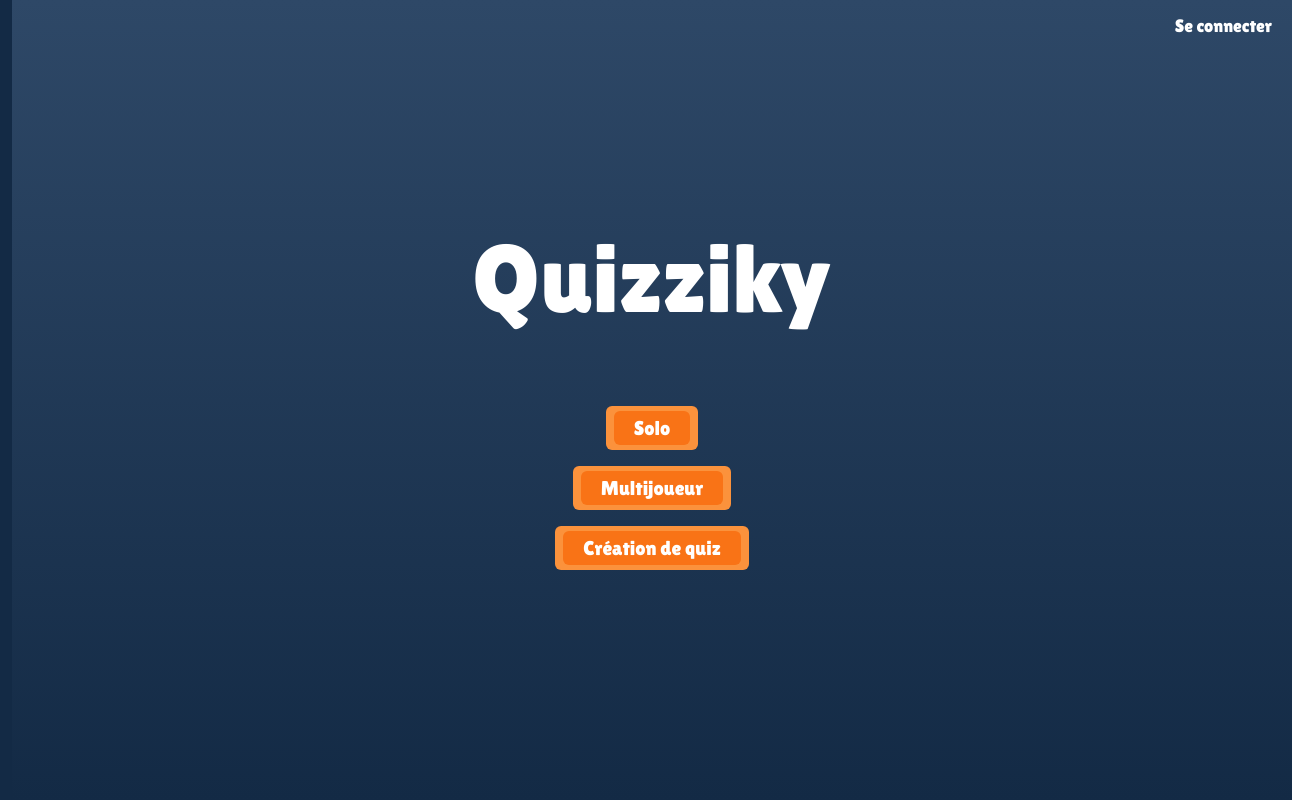
Scenario: Page de connexion › Affiche la page de connexion
Step 1. Click the link "Se connecter" → (1224, 26), box [1175,15,1272,36]
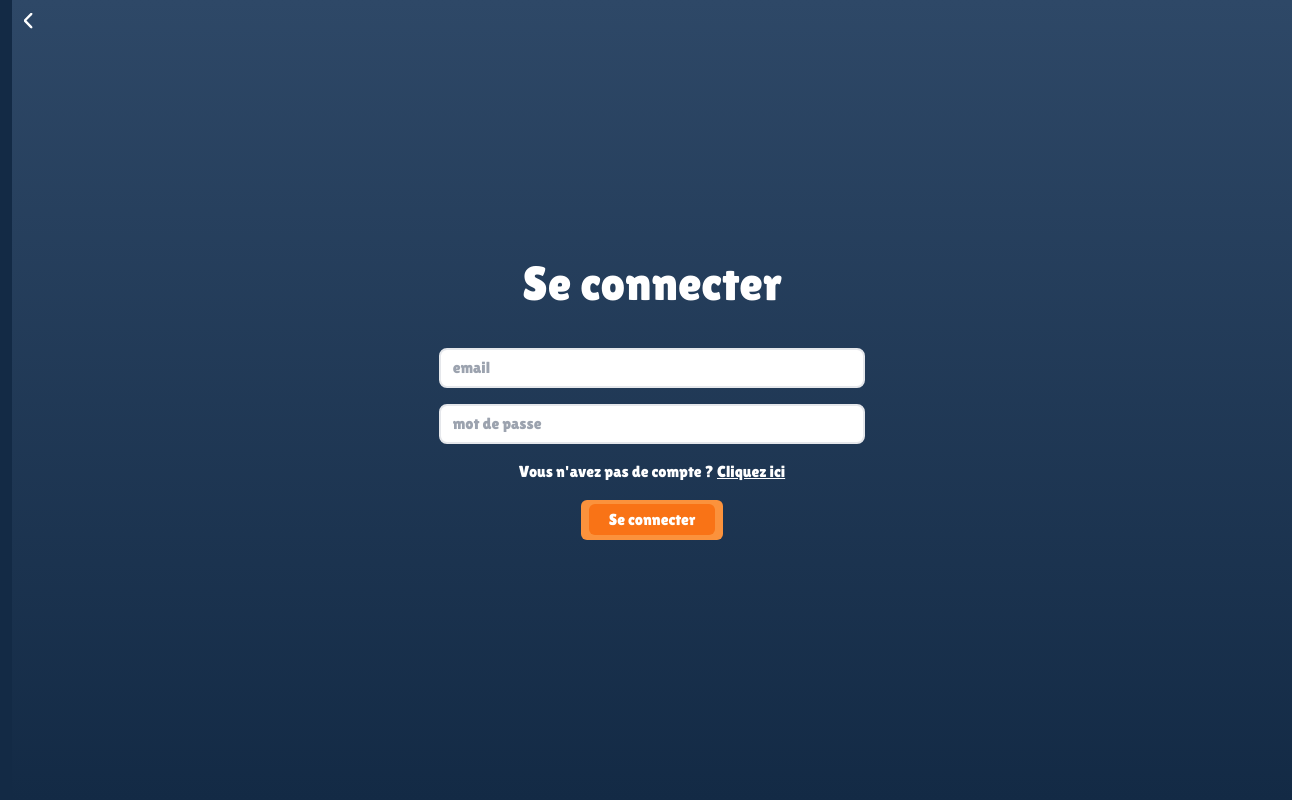
Expected: the heading "Se connecter" is shown, [522,260,782,308]
